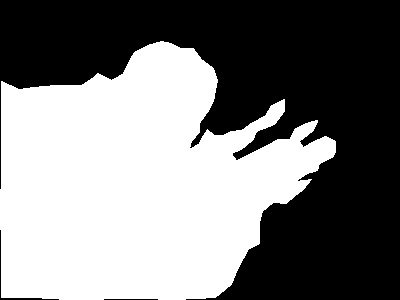Fire: (1, 37, 335, 300)
